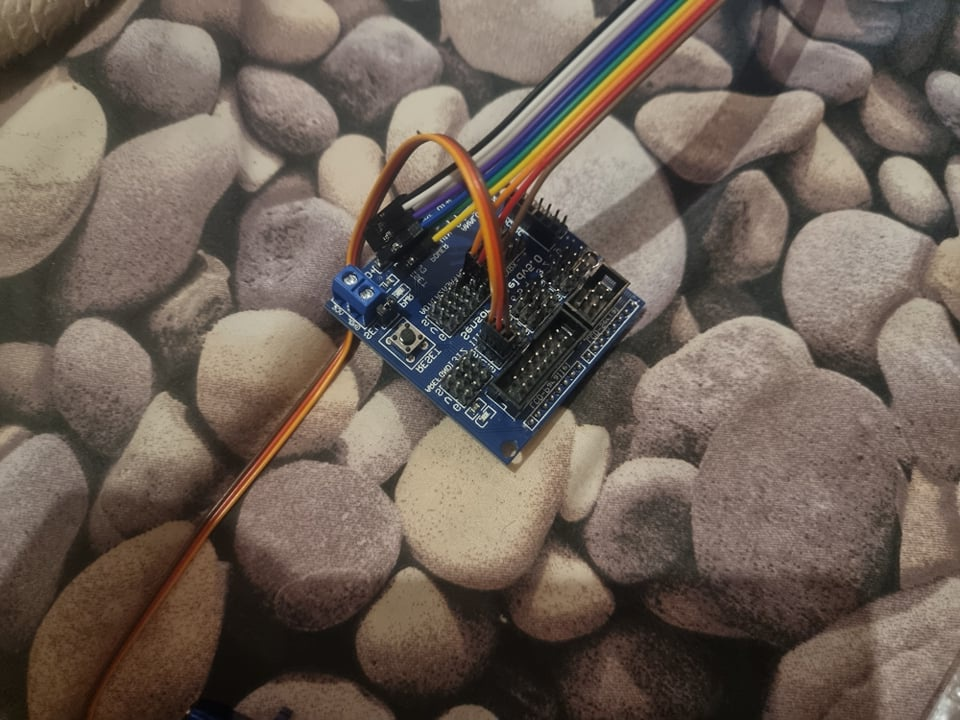5V EXPANSION: (324, 177, 649, 465)
